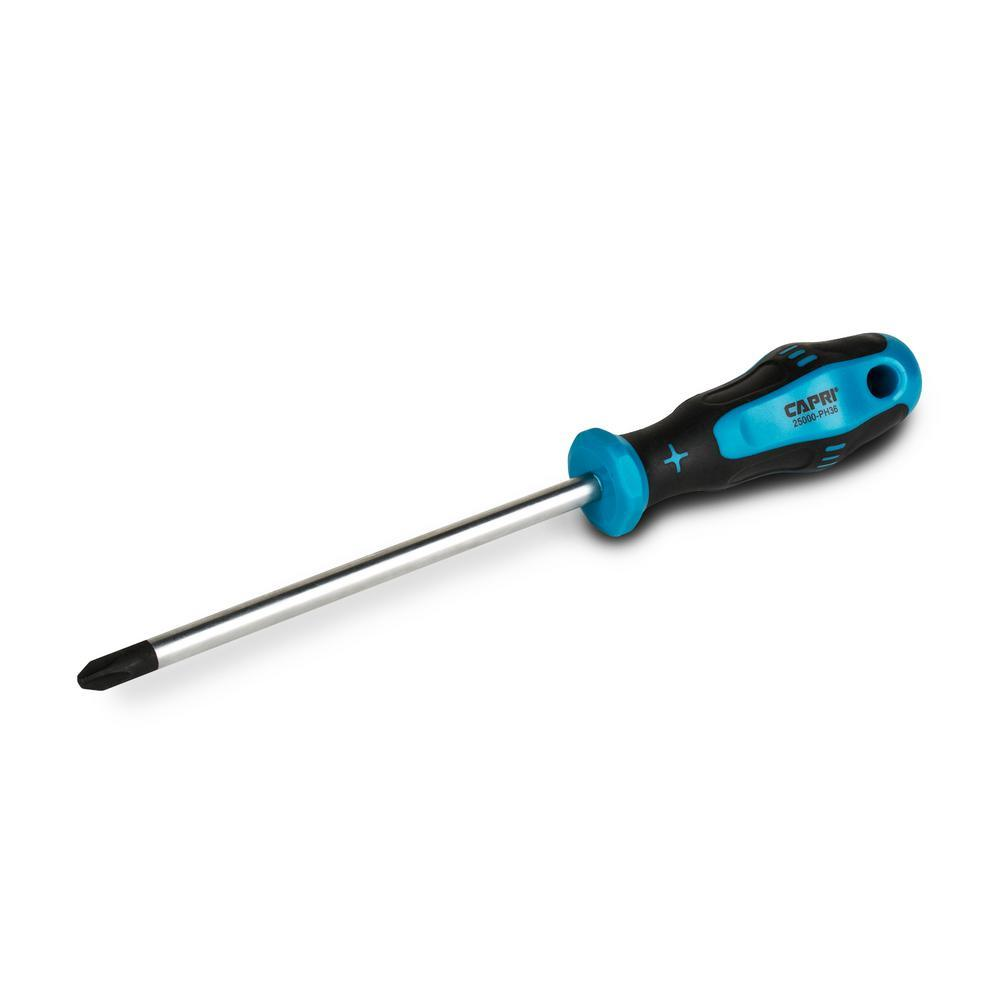Screwdriver: (51, 322, 933, 725)
